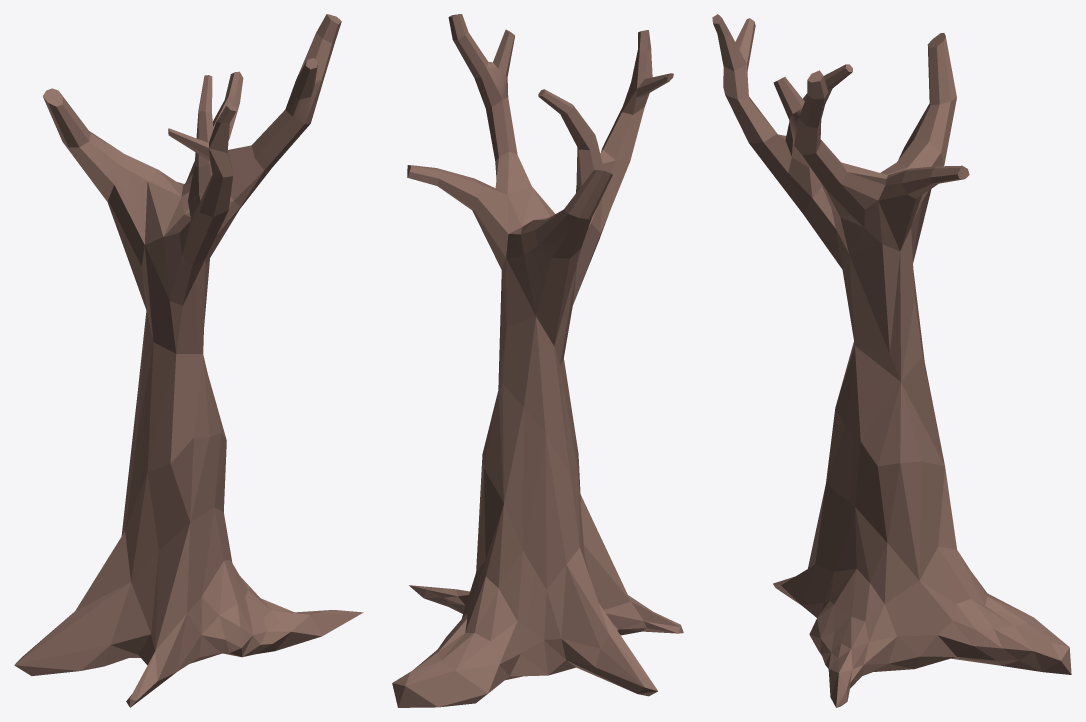
The model's file is fantasy_plant_006.fbx.
3 renders of one model, left to right at view 1: azimuth 30°, elevation 25°; view 2: azimuth 150°, elevation 25°; view 3: azimuth 270°, elevation 25°, orthographic. The views are drawn at different scales.
Parts seen in each view (by area): view 1: fantasy_plant.006; view 2: fantasy_plant.006; view 3: fantasy_plant.006.
Part boxes in pixels (left/top/right/bottom): fantasy_plant.006: left=14, top=14, right=363, bottom=707; fantasy_plant.006: left=392, top=14, right=683, bottom=707; fantasy_plant.006: left=712, top=14, right=1071, bottom=707.
Size of the model in its own units: 404 by 800 by 408.
1 material, 1 textured.
